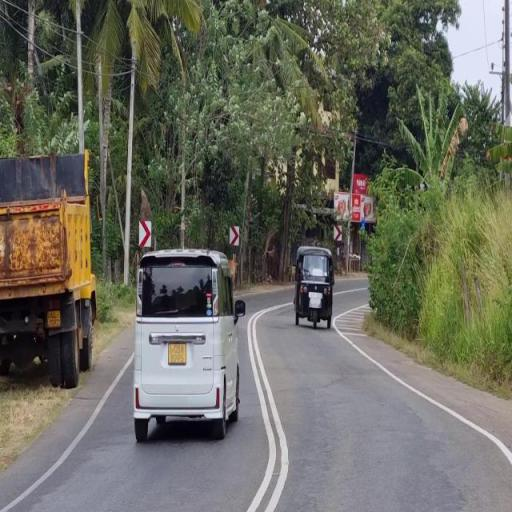double_white_line: (242, 302, 290, 510)
